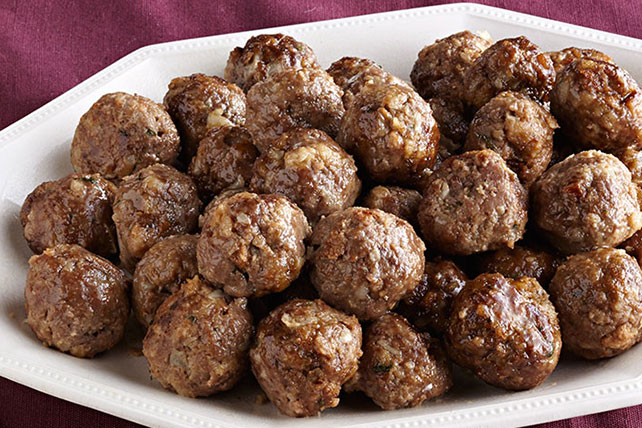meatballs: (50, 62, 640, 373)
